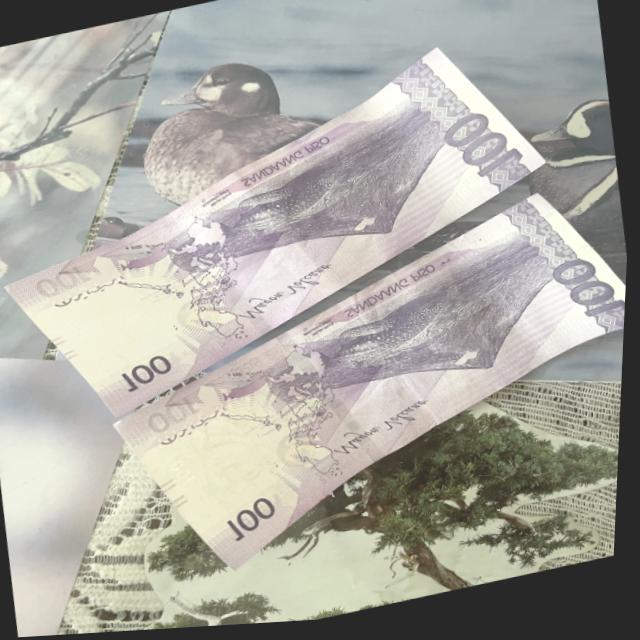100_whale: (300, 291, 469, 396), (201, 164, 364, 259)
100_whale_watermark: (108, 232, 191, 286), (218, 365, 293, 419)
value_watermark: (163, 452, 211, 496)
watermark: (46, 251, 207, 392), (164, 393, 303, 530)
